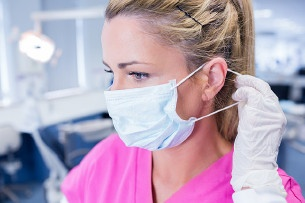Mask: (98, 55, 193, 150)
